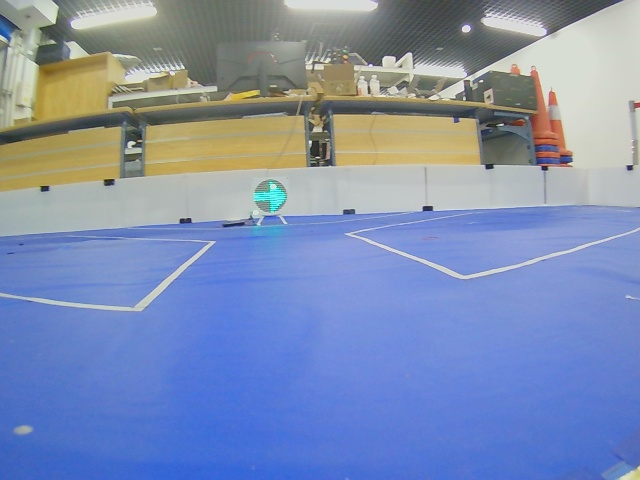right_green: (253, 179, 288, 215)
